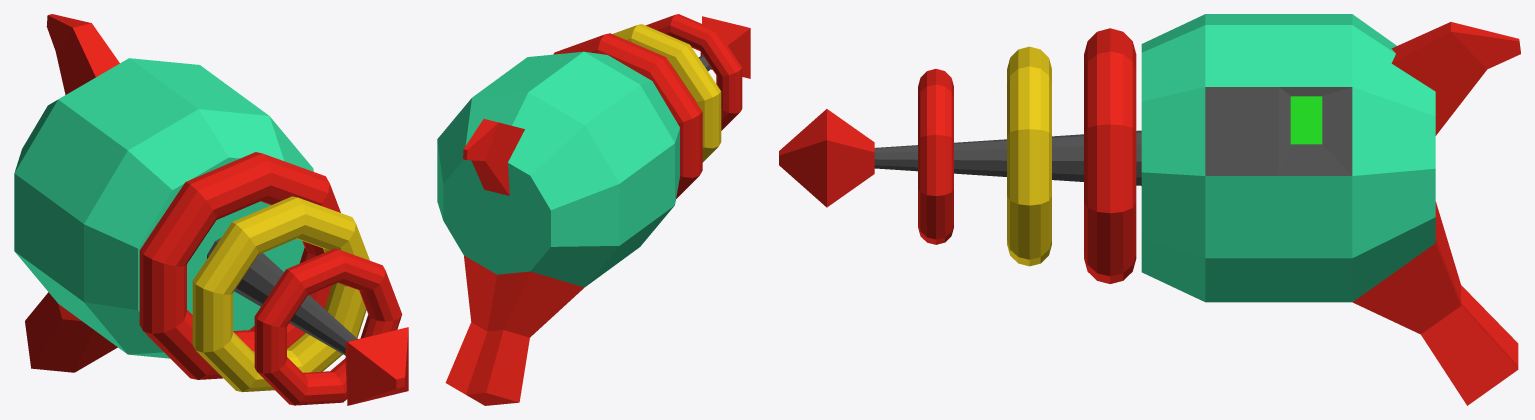
The model's file is AlienGun_Prop.fbx.
The picture shows the model from 3 angles, left to right: view 1: azimuth 30°, elevation 25°; view 2: azimuth 150°, elevation 25°; view 3: azimuth 270°, elevation 25°; orthographic projection. The views are drawn at different scales.
Visible parts, largest first — view 1: Cylinder.003, Torus.002, Torus.001, Torus, Cube.009, Cube.010; view 2: Cylinder.003, Torus.002, Torus.001, Torus, Cube.010, Cube.009; view 3: Cylinder.003, Torus.002, Torus.001, Cube.010, Torus, Cube.009.
Boxes of the visible parts, box(x1,y1,x2,y2) form: Cylinder.003: box(14, 58, 357, 372); Torus.002: box(139, 152, 340, 379); Torus.001: box(192, 196, 369, 392); Torus: box(254, 248, 402, 405); Cube.009: box(345, 327, 408, 405); Cube.010: box(46, 14, 119, 94); Cylinder.003: box(437, 51, 711, 405); Torus.002: box(553, 33, 702, 198); Torus.001: box(612, 24, 721, 162); Torus: box(645, 14, 742, 130); Cube.010: box(463, 119, 524, 195); Cube.009: box(700, 16, 750, 78); Cylinder.003: box(874, 14, 1518, 405); Torus.002: box(1084, 28, 1136, 283); Torus.001: box(1007, 46, 1051, 266); Cube.010: box(1391, 22, 1520, 135); Torus: box(918, 69, 953, 244); Cube.009: box(779, 109, 874, 207).
Size of the model in its own units: 190 by 281 by 505.
